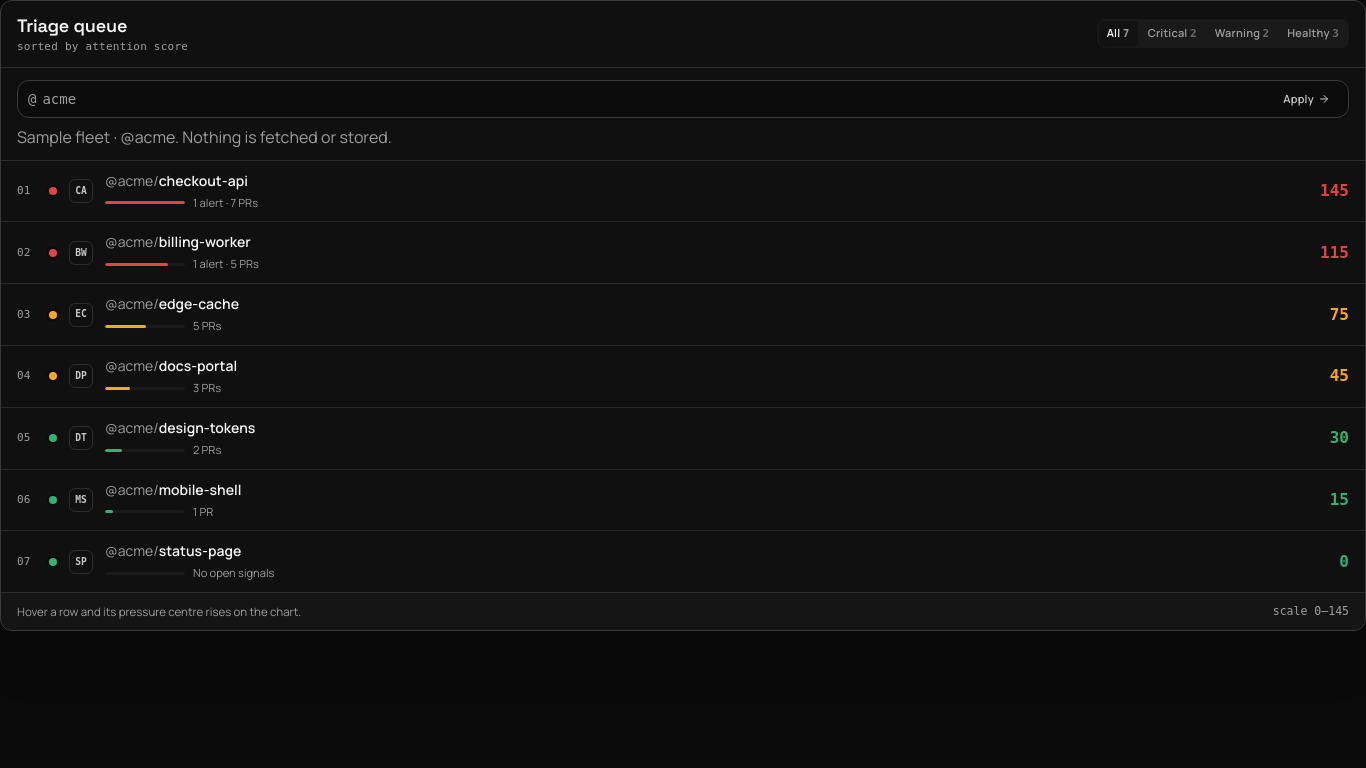
it: promo queue card › relabels every row for a valid handle
This screenshot has width=1366, height=768.
In the field named "Preview the queue for a GitHub account": {"x": 656, "y": 99} [42,81,1269,117], type "OctoCat"
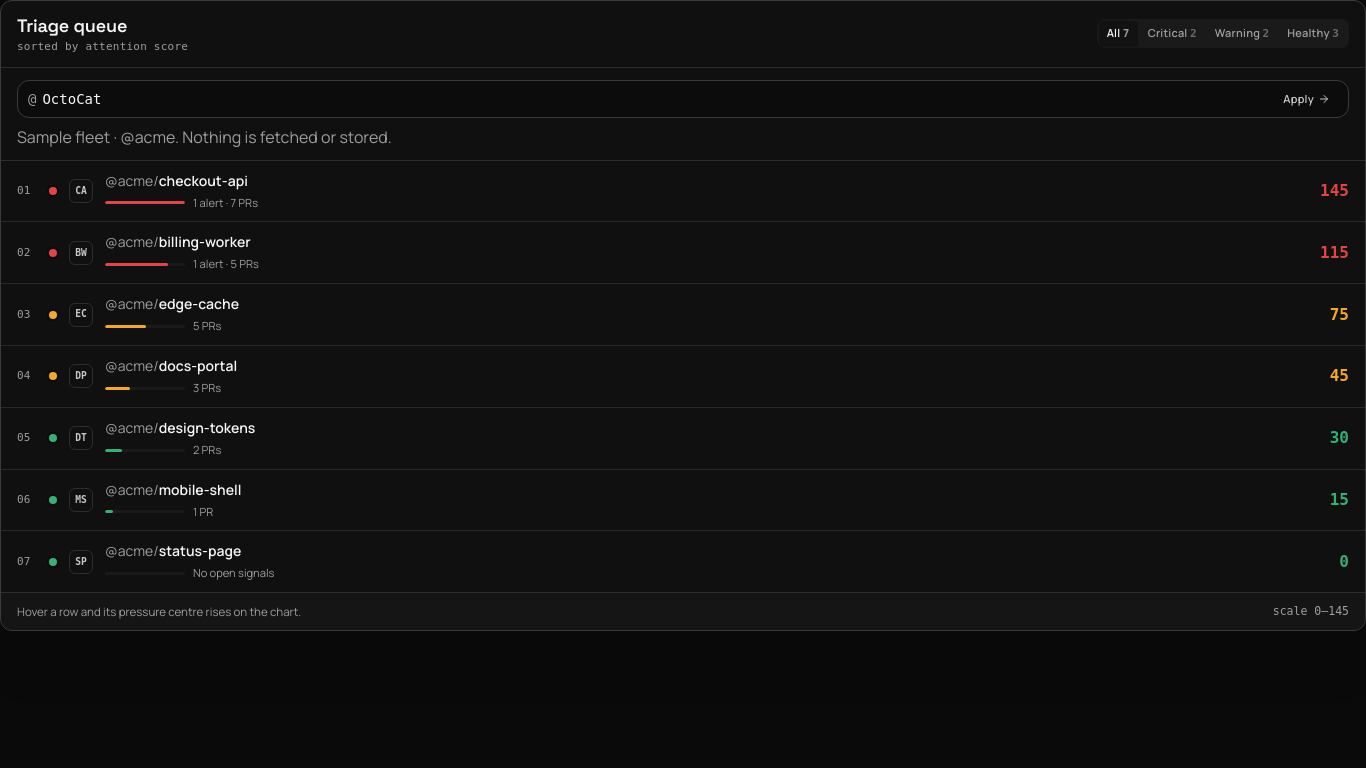
Submit the form named "Preview the queue for a GitHub account", box [1,68,1365,161]
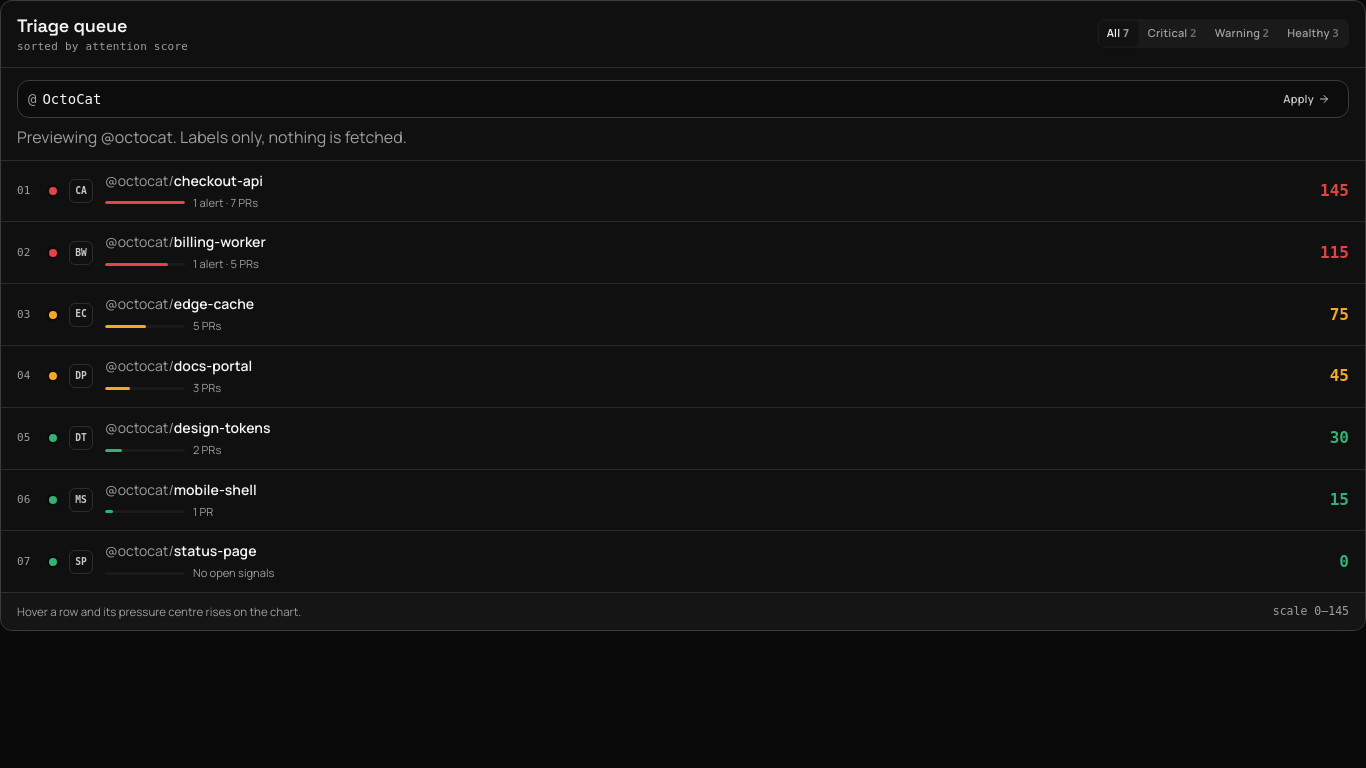
Check: the text "@octocat/checkout-api" is shown, box [105,171,263,190]
Check: the text "@octocat/status-page" is shown, box [105,541,256,560]
Check: the text "@acme/" is gone
